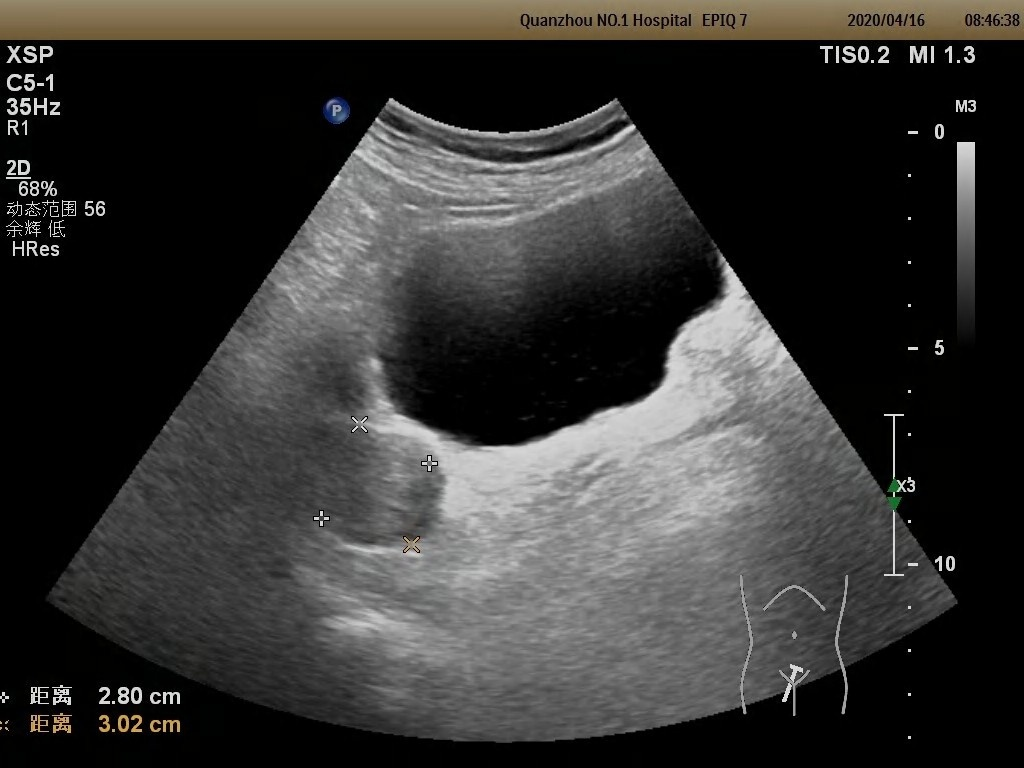肌瘤: (318, 428, 439, 551)
